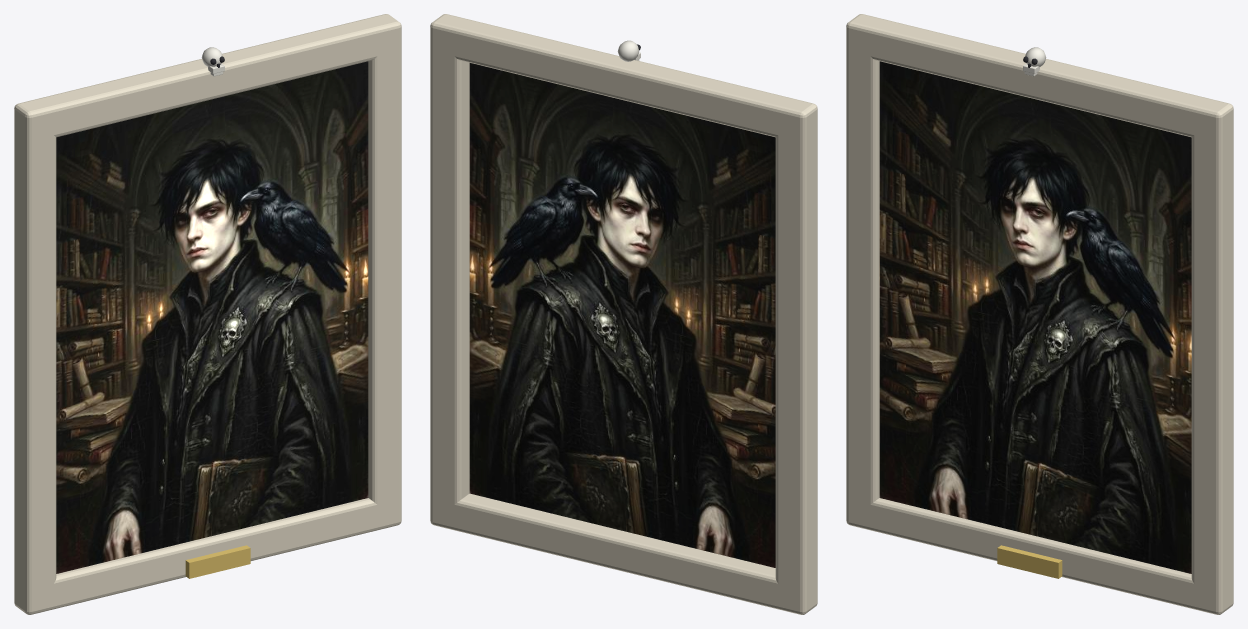
File: art_raven_student.glb
3 views of the same model, side by side, from view 1: azimuth 30°, elevation 25°; view 2: azimuth 150°, elevation 25°; view 3: azimuth 330°, elevation 25° (orthographic).
Parts seen in each view (by area): view 1: GD_art_raven_student__m0, GD_art_raven_student__m1, GD_art_raven_student__m3; view 2: GD_art_raven_student__m0, GD_art_raven_student__m1; view 3: GD_art_raven_student__m0, GD_art_raven_student__m1, GD_art_raven_student__m3.
Boxes of the visible parts, x1,y1,x2,y2 form: GD_art_raven_student__m0: [56, 61, 368, 573]; GD_art_raven_student__m1: [14, 14, 401, 614]; GD_art_raven_student__m3: [185, 545, 250, 578]; GD_art_raven_student__m0: [469, 63, 775, 567]; GD_art_raven_student__m1: [430, 14, 817, 614]; GD_art_raven_student__m0: [879, 61, 1191, 573]; GD_art_raven_student__m1: [846, 14, 1233, 614]; GD_art_raven_student__m3: [997, 545, 1062, 578].
Bounding box in the file's own units: 0.86 × 1.14 × 0.0775.
Materials: 5 (1 with a texture image).
